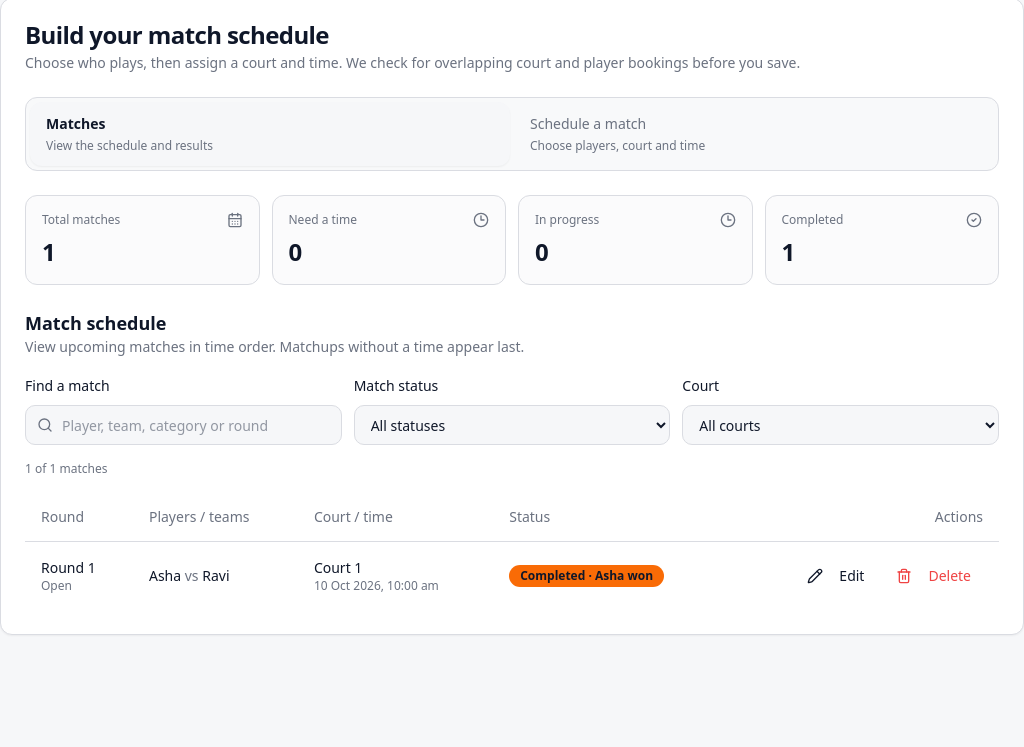
Scenario: match scheduling usability › does not count previous-round losers as needing a later-round schedule
This screenshot has width=1024, height=747.
Click the tab "Schedule a match Choose players, court and time".
click(588, 124)  # box [514,102,994,166]
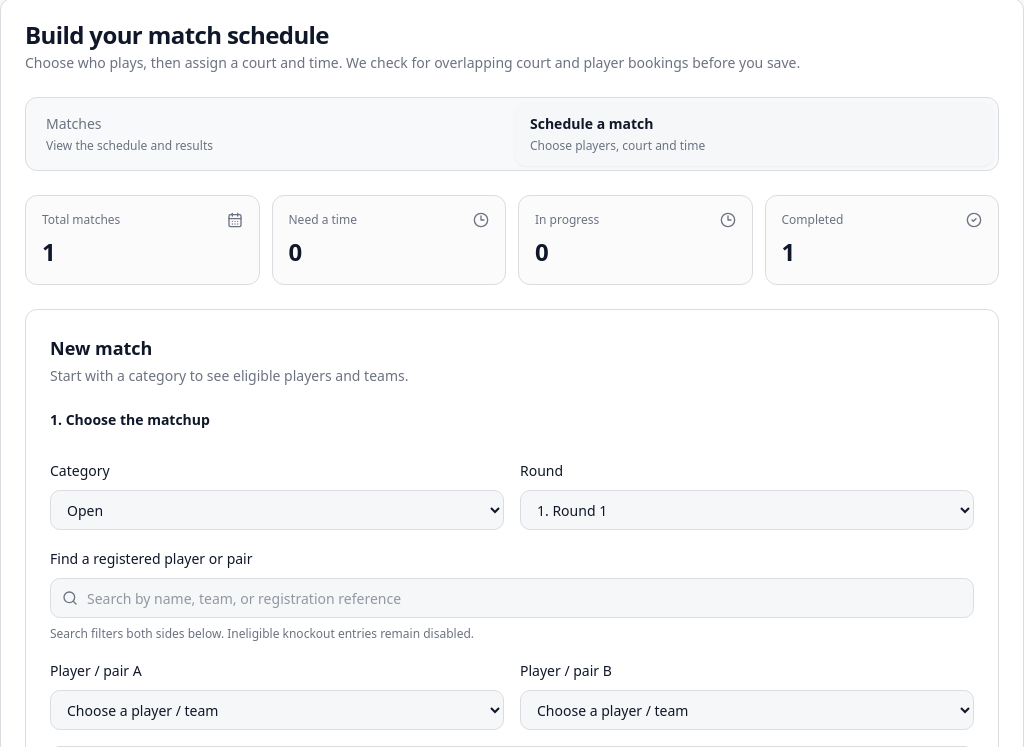
Select "2. Round 2" in the dropdown labelled "Round" at (747, 510), box [520,490,974,530]
(page scrolled)
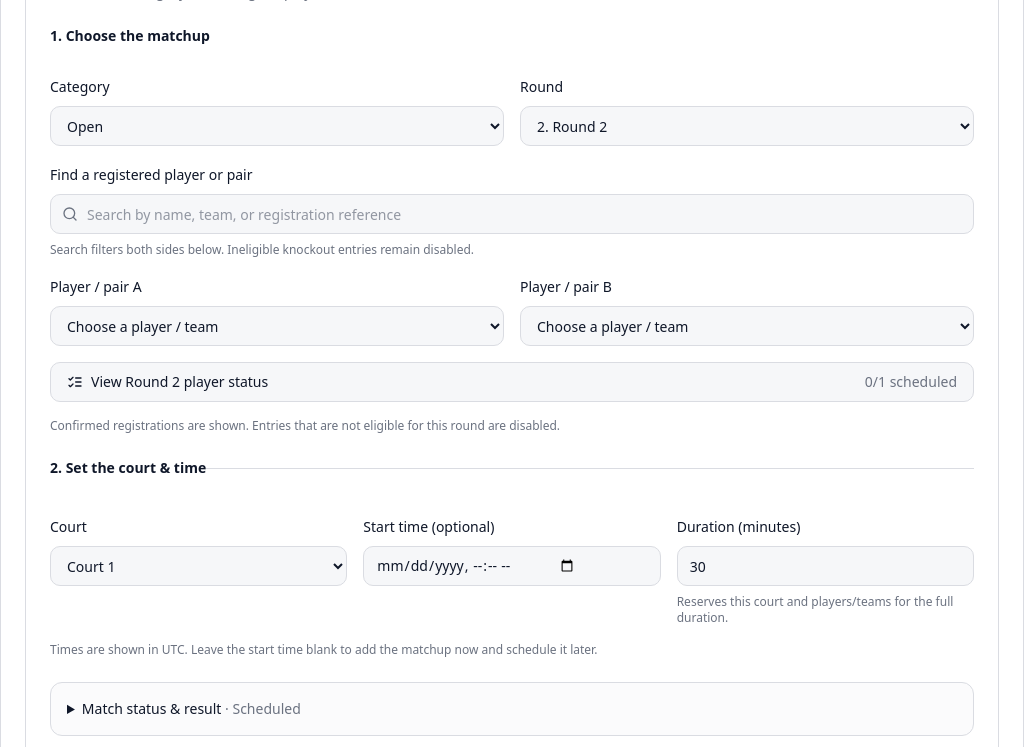
Click the button "View Round 2 player status 0/1 scheduled".
click(108, 382)  # box [50,362,974,402]
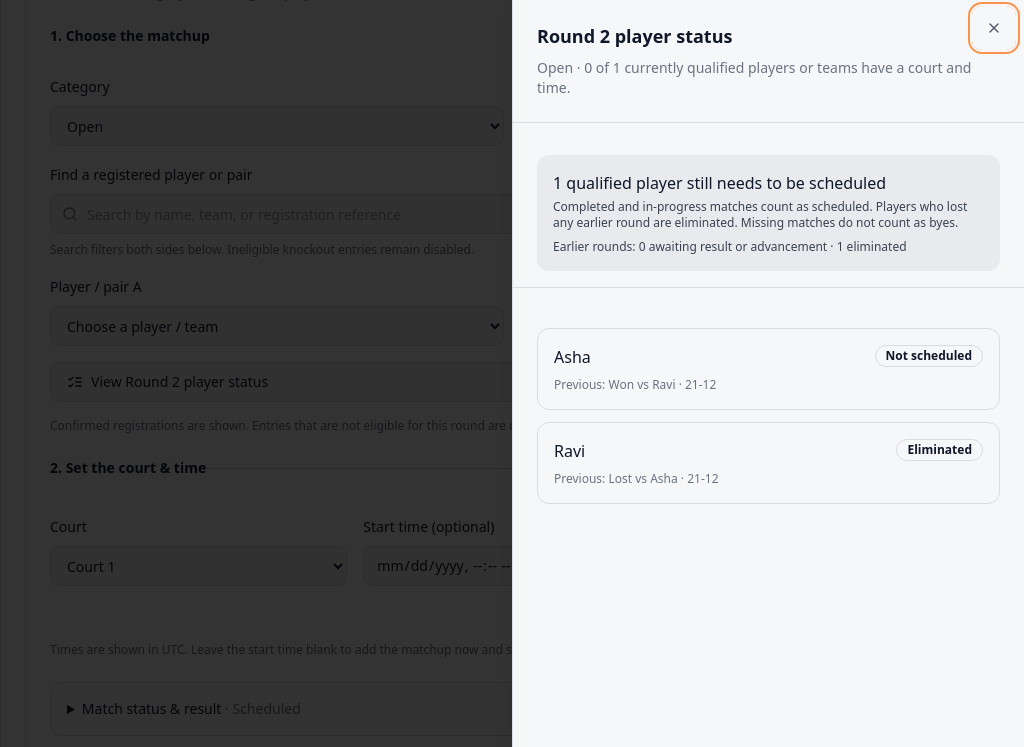
Now the text "1 qualified player still needs to be scheduled" is shown, box [553,172,886,194]
Now the text "Eliminated" is shown, box [896,439,983,461]
Now the text "Previous: Lost vs Asha · 21-12" is shown, box [554,470,718,487]
